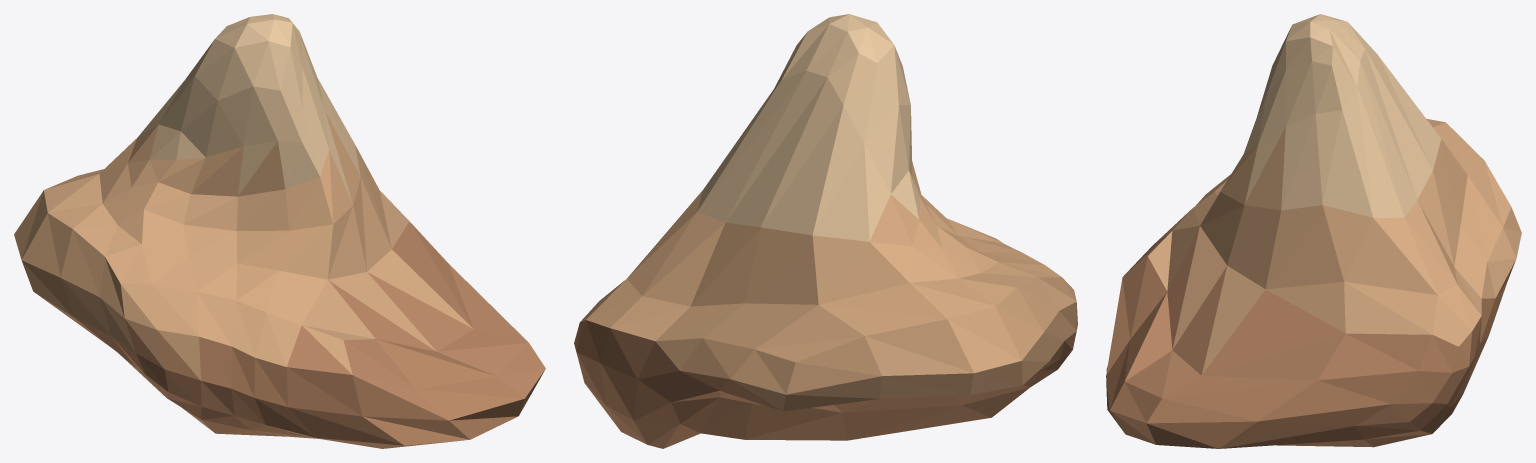
The model's file is canyon-3-4.glb.
3 renders of one model, left to right at view 1: azimuth 30°, elevation 25°; view 2: azimuth 150°, elevation 25°; view 3: azimuth 270°, elevation 25°, orthographic. The views are drawn at different scales.
Parts seen in each view (by area): view 1: canyon-3-4; view 2: canyon-3-4; view 3: canyon-3-4.
Part boxes in pixels (x1=…): canyon-3-4: x1=14, y1=14, x2=545, y2=448; canyon-3-4: x1=574, y1=14, x2=1077, y2=448; canyon-3-4: x1=1106, y1=14, x2=1521, y2=448.
Size of the model in its own units: 25.75 by 24 by 24.47.
